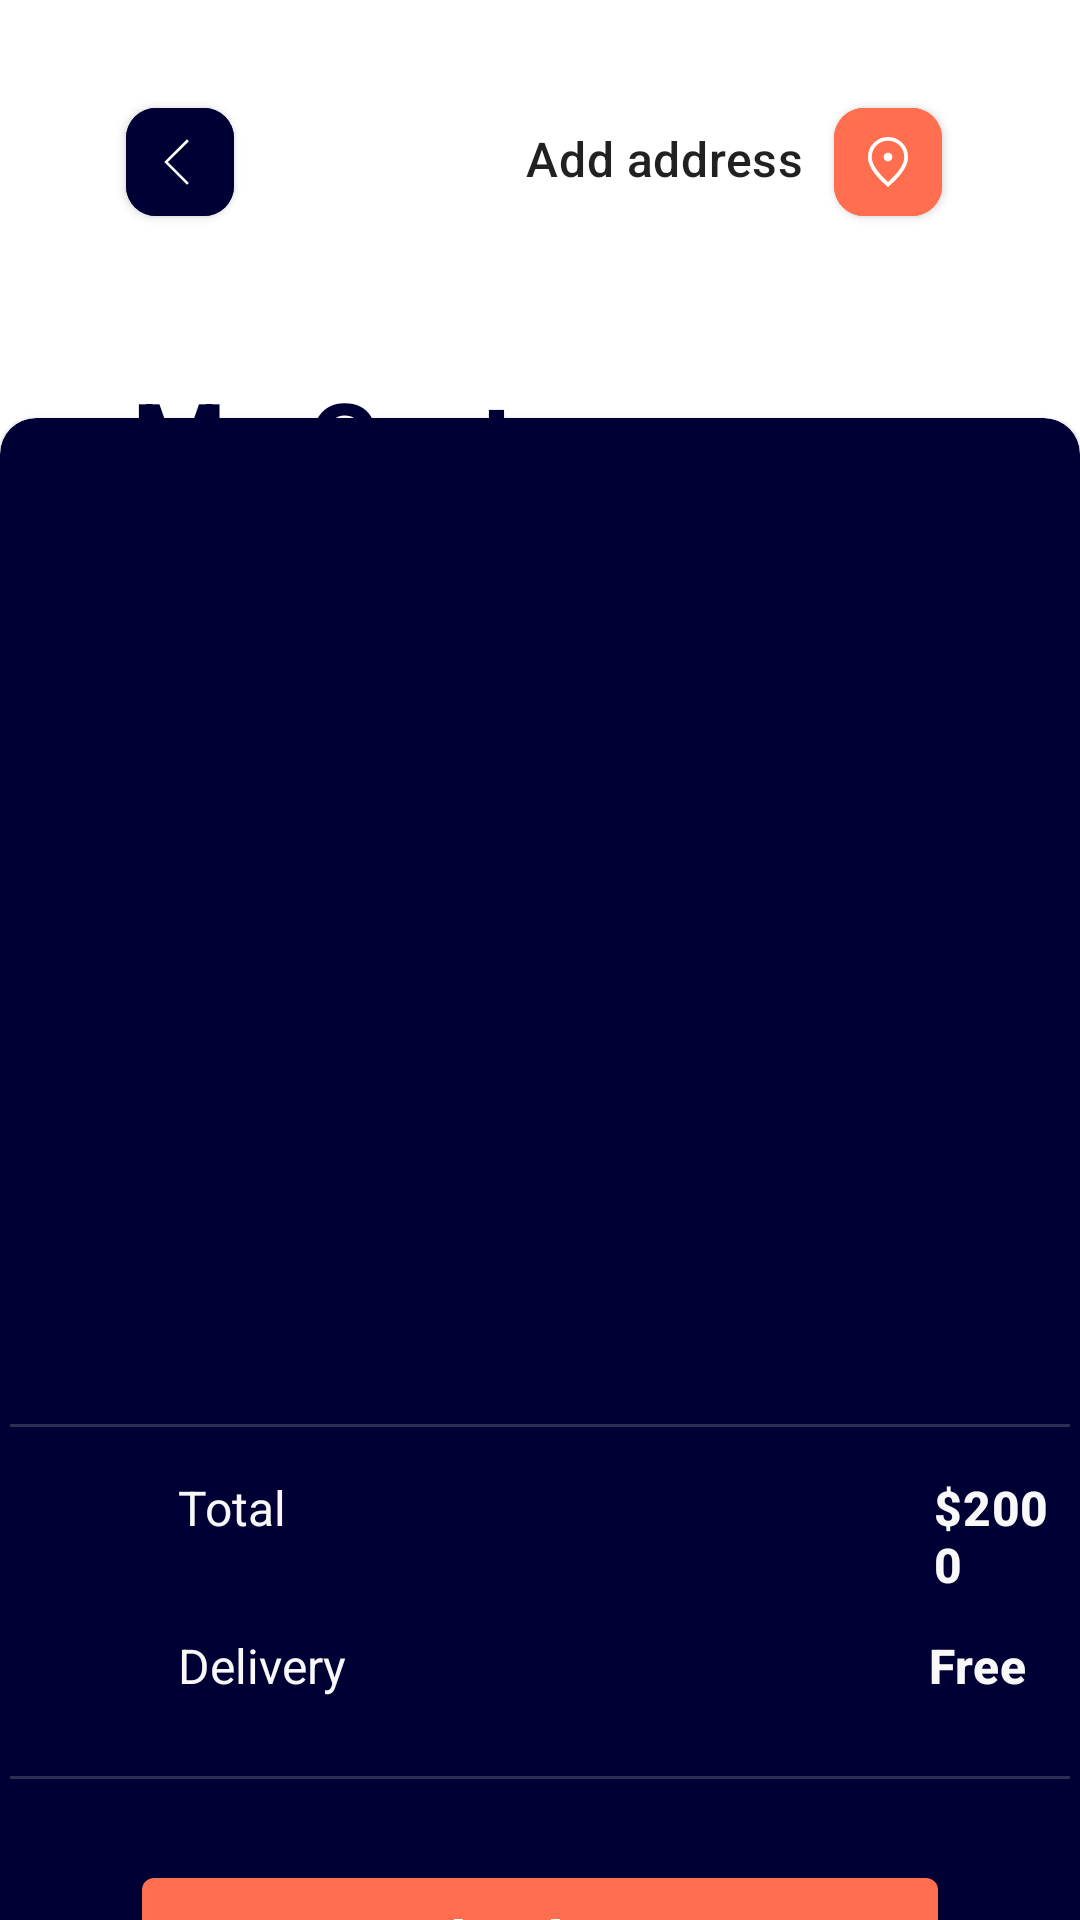

Where to tap for icons on this 1080 × 1920 app screen, as (x,y):
backarrow: (180,162)
location pin: (888,162)
